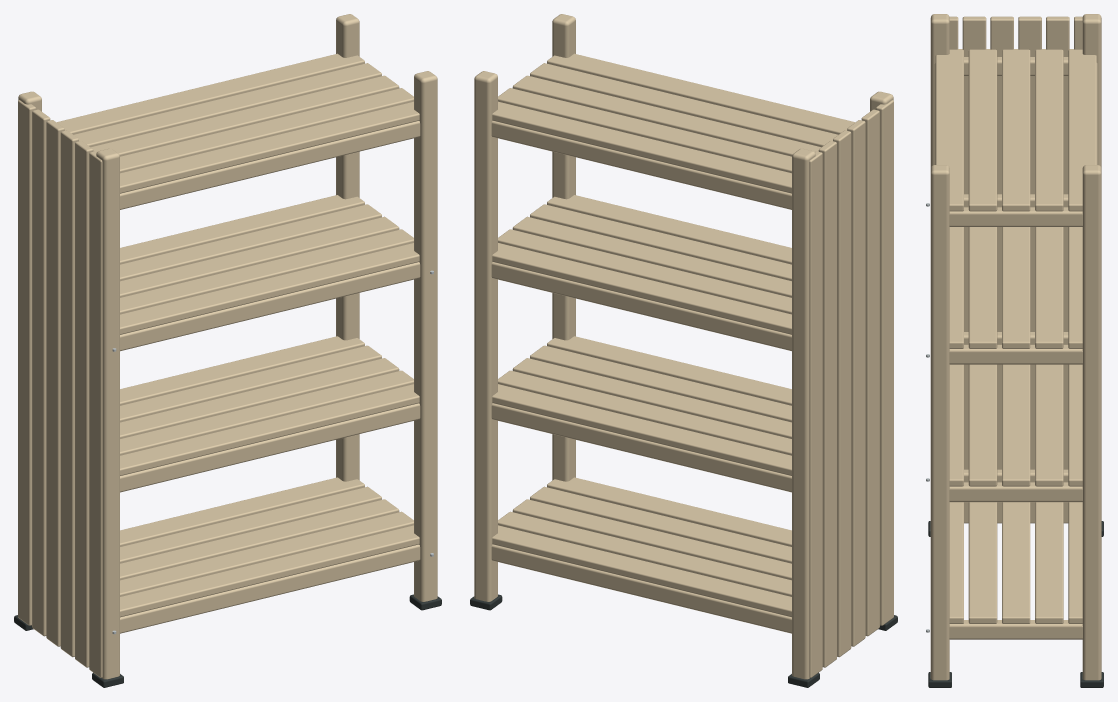
Rendered from cheesemaking-and-dairy-cellar-aging-shelf-end-b6621e30__30886.glb.
3 renders of one model, left to right at view 1: azimuth 30°, elevation 25°; view 2: azimuth 150°, elevation 25°; view 3: azimuth 270°, elevation 25°, orthographic. The views are drawn at different scales.
Visible parts, largest first — view 1: aging-shelf-end; view 2: aging-shelf-end; view 3: aging-shelf-end.
Part boxes in pixels (bbox=[...]): aging-shelf-end: bbox=[14, 14, 441, 687]; aging-shelf-end: bbox=[470, 14, 897, 687]; aging-shelf-end: bbox=[926, 14, 1103, 687].
Bounding box in the file's own units: 1.21 × 1.8 × 0.5625.
